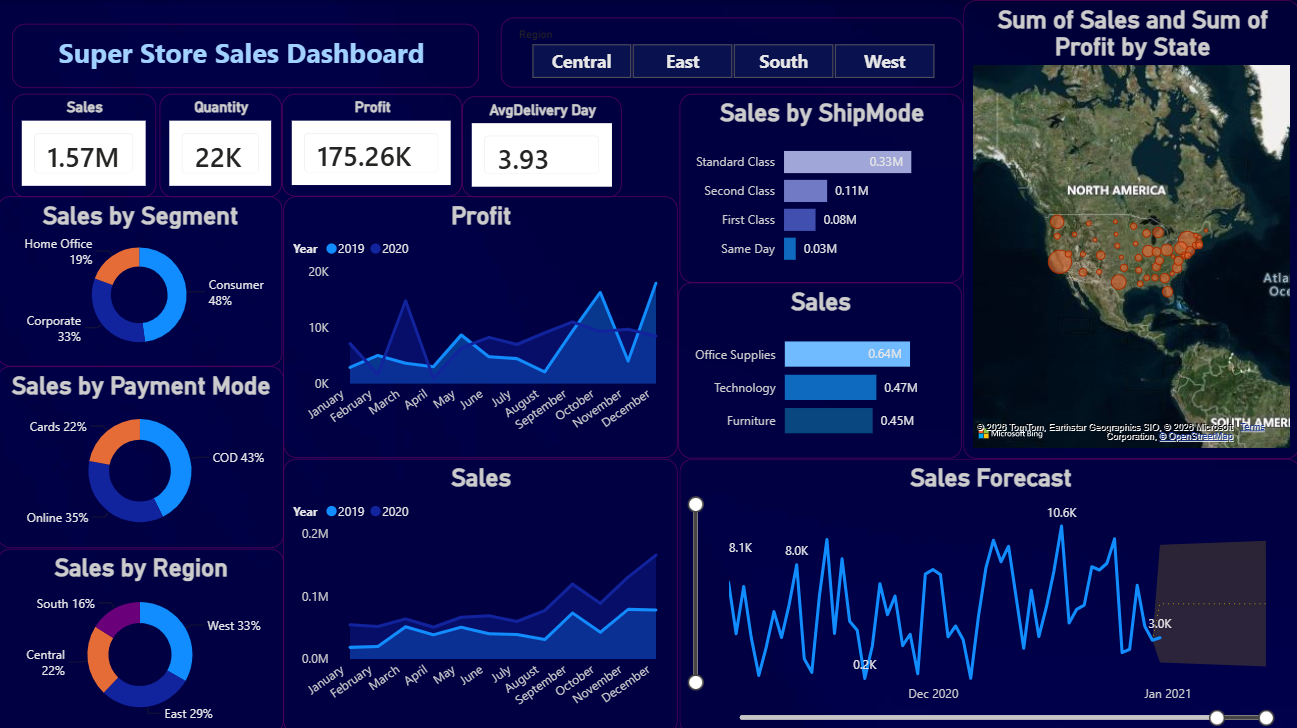

The page's visual inventory and layout, read from the dashboard file:
{"tool":"powerbi","page":{"name":"Page 1","canvas":[1280,720],"ordinal":0},"visuals":[{"type":"clusteredBarChart","title":"Sales ","fields":{"Category":["Sheet1.Category"],"Y":["Sum(Sheet1.Sales)"]},"box":[668.6,277.1,278.6,172.9],"z":0},{"type":"clusteredBarChart","title":"Sales by ShipMode","fields":{"Category":["Sheet1.Ship Mode"],"Y":["Sum(Sheet1.Sales)"]},"box":[670,91.4,278.6,185.7],"z":1000},{"type":"slicer","title":"Monthly Sales ","fields":{"Values":["Sheet1.Region"]},"box":[494.3,17.1,454.3,68.6],"z":2000},{"type":"areaChart","title":"Profit  ","fields":{"Series":["Sheet1.Order Date.Variation.Date Hierarchy.Year"],"Category":["Sheet1.Order Date.Variation.Date Hierarchy.Month","Sheet1.Order Date.Variation.Date Hierarchy.Day"],"Y":["Sum(Sheet1.Profit)"]},"box":[281.4,192.9,387.1,257.1],"z":3000},{"type":"map","fields":{"Category":["Sheet1.State"],"Size":["Sum(Sheet1.Sales)"]},"box":[948.5,0,331.3,450.3],"z":4000},{"type":"donutChart","title":"Sales by Segment","fields":{"Category":["Sheet1.Segment"],"Y":["Sum(Sheet1.Sales)"]},"box":[0,192.9,280,167.1],"z":5000},{"type":"donutChart","title":" Sales by Payment Mode","fields":{"Category":["Sheet1.Payment Mode"],"Y":["Sum(Sheet1.Sales)"]},"box":[0,360,281.4,178.6],"z":6000},{"type":"donutChart","title":" Sales by Region","fields":{"Y":["Sum(Sheet1.Sales)"],"Category":["Sheet1.Region"]},"box":[0,538.6,281.4,181.4],"z":7000},{"type":"textbox","box":[14.3,22.9,458.6,62.9],"z":8000},{"type":"cardVisual","title":"Sales ","fields":{"Data":["Sum(Sheet1.Sales)"]},"box":[14.3,91.4,141.4,101.4],"z":9000},{"type":"cardVisual","title":"Quantity ","fields":{"Data":["Sum(Sheet1.Quantity)"]},"box":[160,91.4,120,101.4],"z":10000},{"type":"cardVisual","title":"Profit ","fields":{"Data":["Sum(Sheet1.Profit)"]},"box":[279.8,92,176.7,100.6],"z":11000},{"type":"cardVisual","title":"AvgDelivery Day","fields":{"Data":["Avg(Sheet1.AvgDelivery)"]},"box":[456.4,94.5,157.1,99.4],"z":12000},{"type":"areaChart","title":"Sales ","fields":{"Series":["Sheet1.Order Date.Variation.Date Hierarchy.Year"],"Category":["Sheet1.Order Date.Variation.Date Hierarchy.Month","Sheet1.Order Date.Variation.Date Hierarchy.Day"],"Y":["Sum(Sheet1.Sales)"]},"box":[281.4,450,387.1,270],"z":13000},{"type":"lineChart","title":"Sales Forecast ","fields":{"Y":["Sum(Sheet1.Sales)"],"Category":["Sheet1.Order Date"]},"box":[670,450,610,270],"z":14000}]}

Visuals, with their boxes in screenshot pixels (x1, y1, x2, y2), scaled from the page's 1280x720 canvas onto the 1297x728 screenshot:
"Sales " clusteredBarChart: rect(677, 280, 960, 455)
"Sales by ShipMode" clusteredBarChart: rect(679, 92, 961, 280)
"Monthly Sales " slicer: rect(501, 17, 961, 87)
"Profit  " areaChart: rect(285, 195, 677, 455)
map - Sheet1.State x Sum(Sheet1.Sales): rect(961, 0, 1296, 455)
"Sales by Segment" donutChart: rect(0, 195, 284, 364)
" Sales by Payment Mode" donutChart: rect(0, 364, 285, 545)
" Sales by Region" donutChart: rect(0, 545, 285, 727)
textbox: rect(14, 23, 479, 87)
"Sales " cardVisual: rect(14, 92, 158, 195)
"Quantity " cardVisual: rect(162, 92, 284, 195)
"Profit " cardVisual: rect(284, 93, 463, 195)
"AvgDelivery Day" cardVisual: rect(462, 96, 622, 196)
"Sales " areaChart: rect(285, 455, 677, 727)
"Sales Forecast " lineChart: rect(679, 455, 1296, 727)
